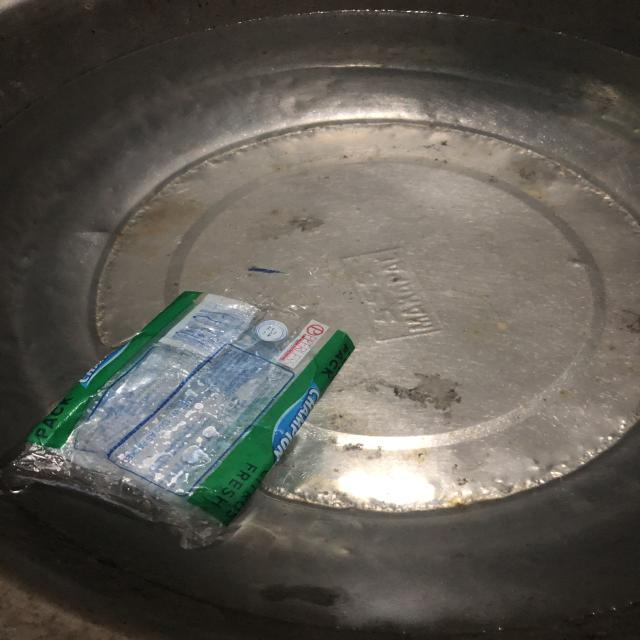Plastic Wrapper: (5, 284, 356, 567)
